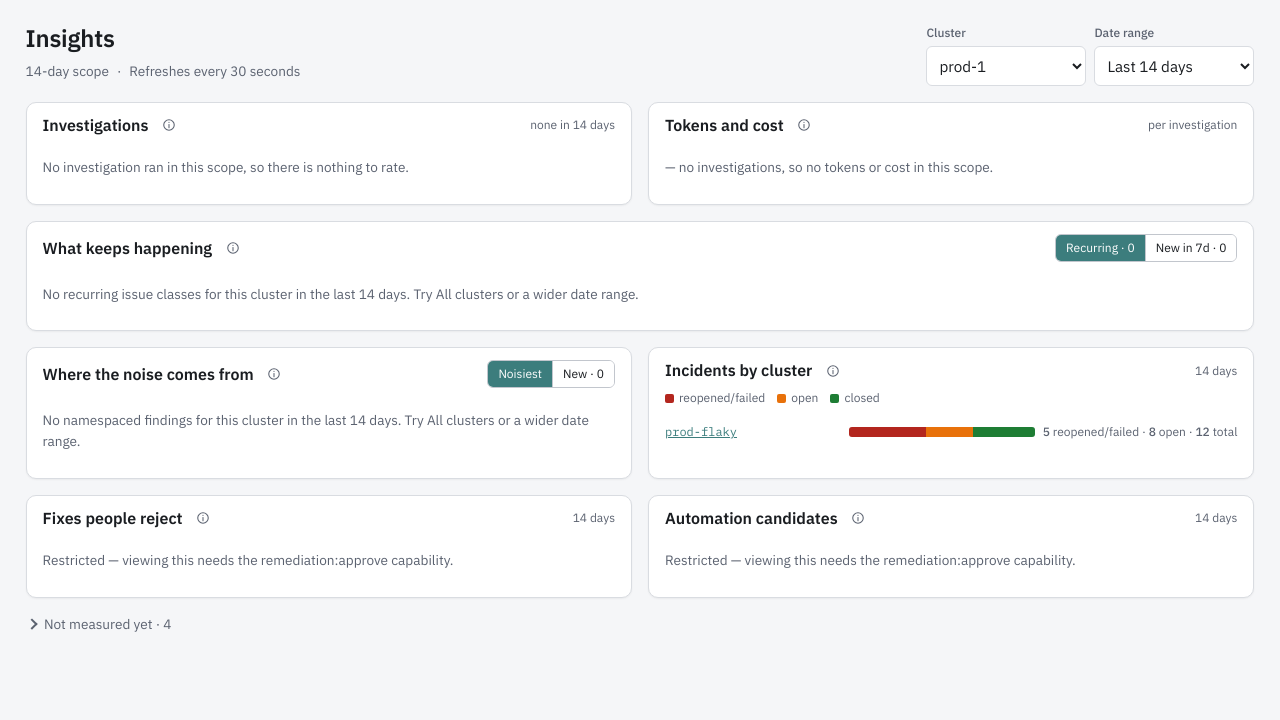
Test: InsightsPage — new in this window (BUGS.md 121 part b) › names the cluster-scoped remedy without suggesting a wider date range
Check: the heading "What keeps happening" is shown, box [43,238,212,258]
Click the button "New in 7d · 0": point(1191, 248) [1146,235,1236,261]
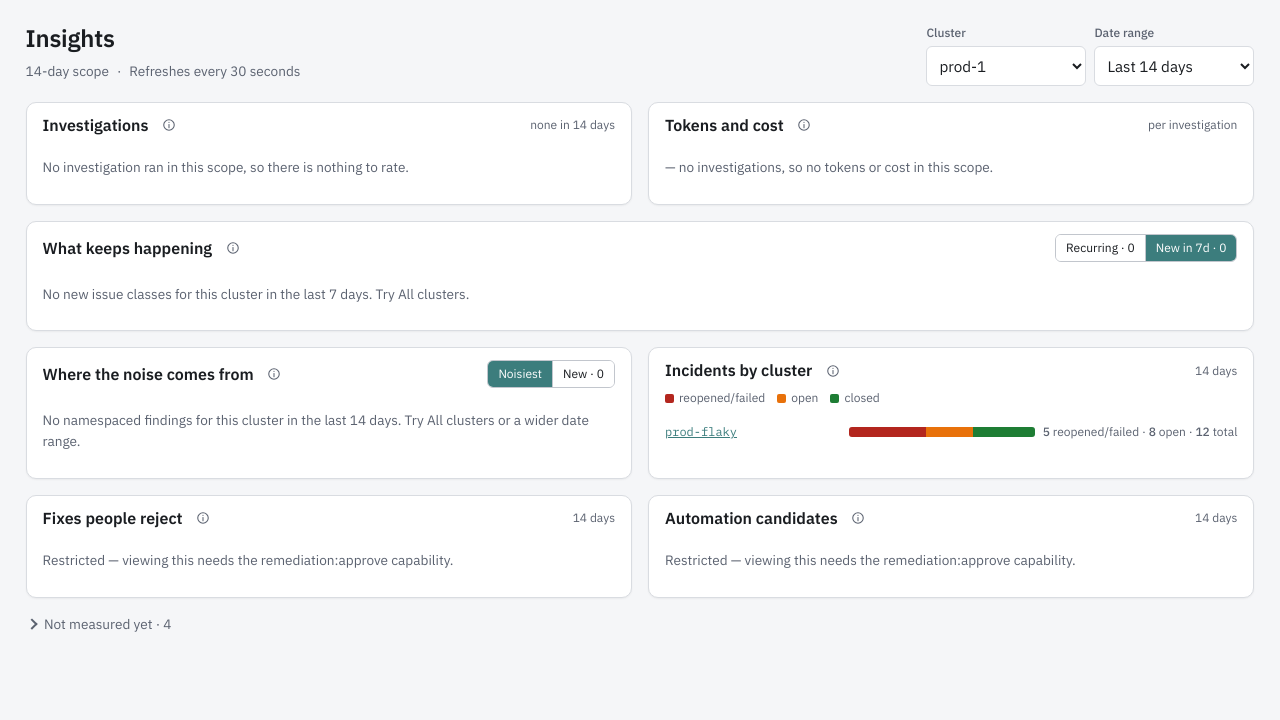
Click the button "New · 0": point(584, 374) [553,361,614,387]
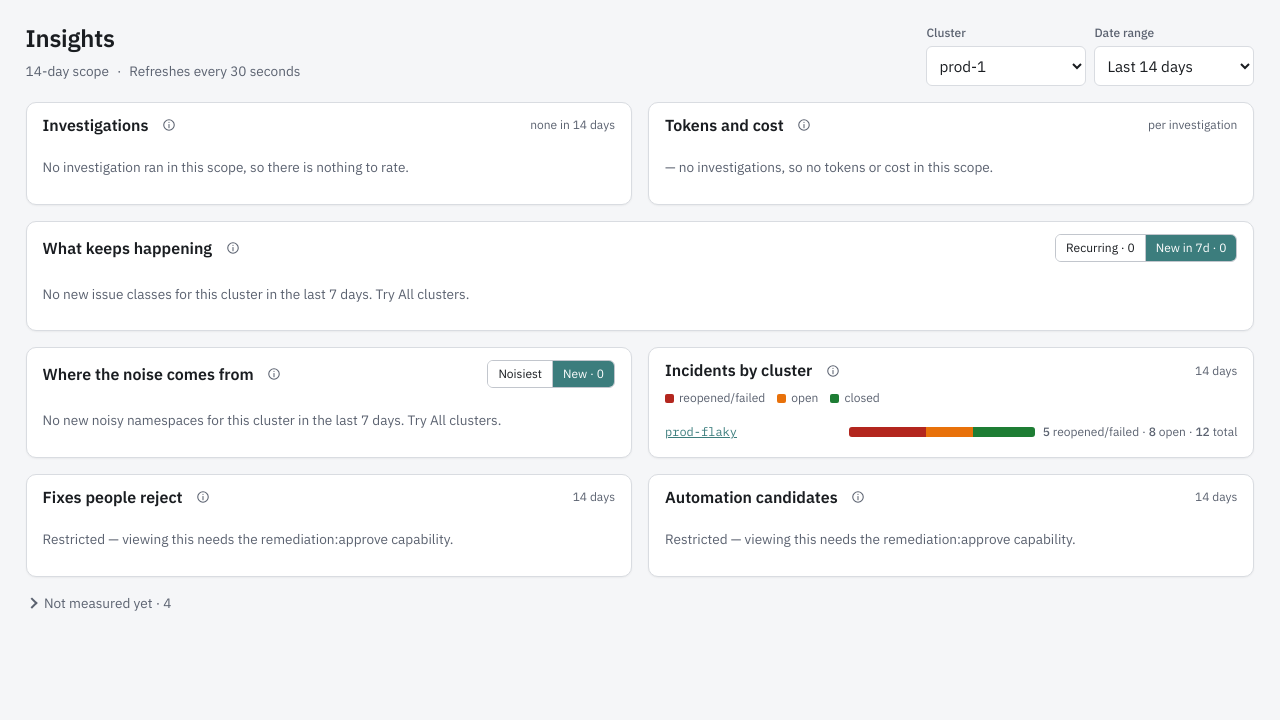
Check: the text "No new issue classes for this cluster in the last 7 days. Try All clusters." is shown, box [43,285,469,303]
Check: the text "No new noisy namespaces for this cluster in the last 7 days. Try All clusters." is shown, box [43,411,501,429]
